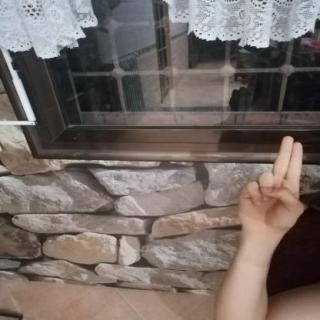TA: (225, 131, 312, 240)
